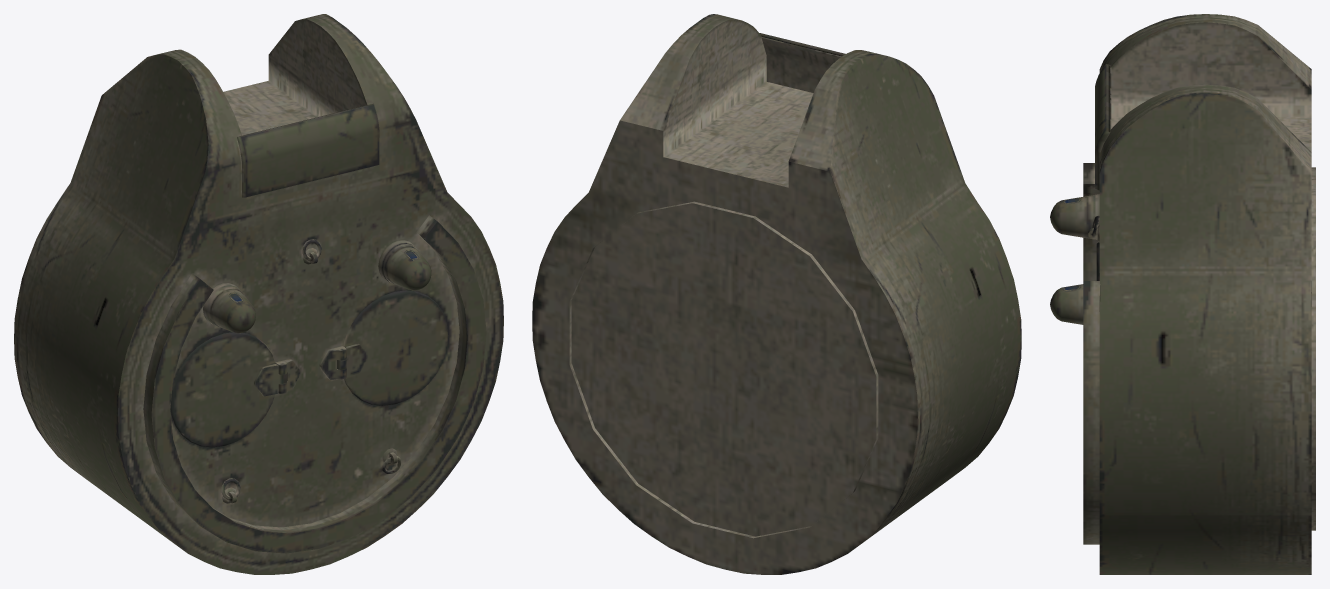
Rendered from Turret_01.glb.
3 views of the same model, side by side, from view 1: azimuth 30°, elevation 25°; view 2: azimuth 150°, elevation 25°; view 3: azimuth 270°, elevation 25° (orthographic). The views are drawn at different scales.
Visible parts, largest first — view 1: set_0_group_0; view 2: set_0_group_0; view 3: set_0_group_0.
Boxes of the visible parts, bbox=[...] form: set_0_group_0: bbox=[14, 14, 503, 574]; set_0_group_0: bbox=[532, 14, 1021, 574]; set_0_group_0: bbox=[1050, 14, 1315, 574].
Bounding box in the file's own units: 1.97 × 2.39 × 1.15.
Materials: 1 (1 with a texture image).
